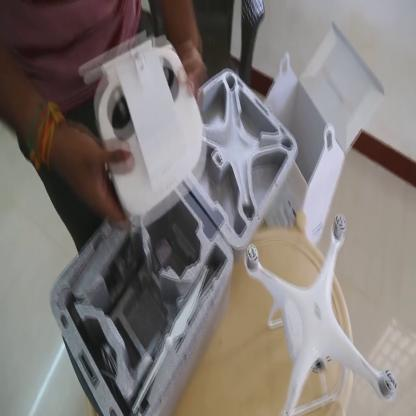drone: (242, 213, 400, 416)
